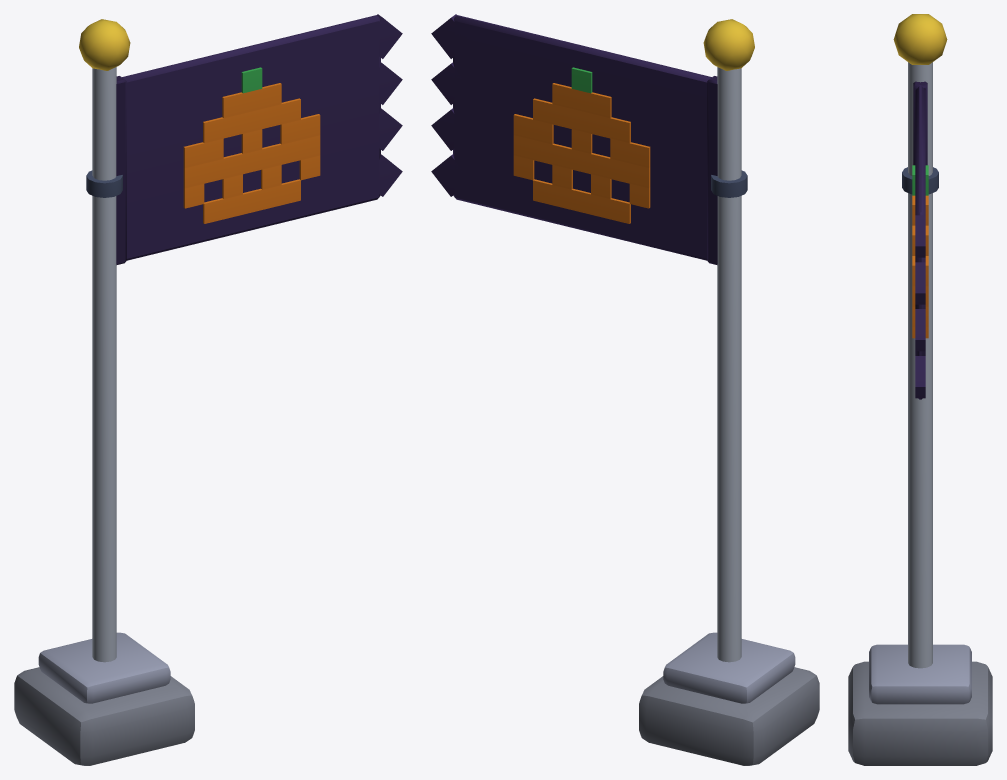
File: lo_flag_kuerbis.glb
The picture shows the model from 3 angles, left to right: view 1: azimuth 30°, elevation 25°; view 2: azimuth 150°, elevation 25°; view 3: azimuth 270°, elevation 25°; orthographic projection.
Visible parts, largest first — view 1: sway_cloth, body; view 2: sway_cloth, body; view 3: body, sway_cloth.
Boxes of the visible parts, x1=… form: sway_cloth: x1=116, y1=14, x2=402, y2=264; body: x1=14, y1=19, x2=194, y2=765; sway_cloth: x1=431, y1=14, x2=717, y2=264; body: x1=639, y1=19, x2=819, y2=765; body: x1=848, y1=14, x2=992, y2=765; sway_cloth: x1=912, y1=81, x2=928, y2=399.
Bounding box in the file's own units: 2.03 × 3.88 × 0.7.
